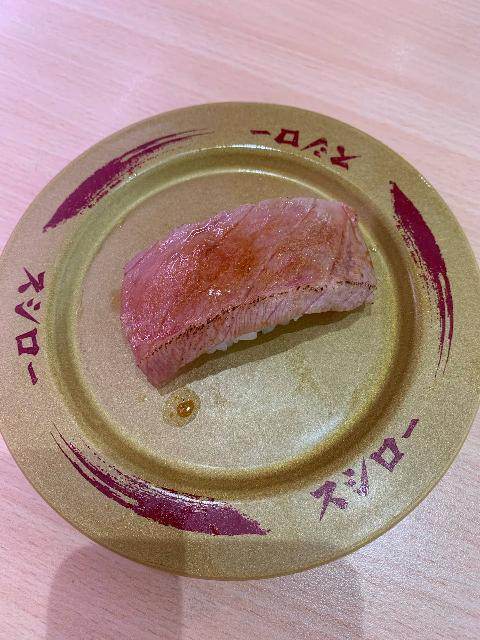jangold: (0, 72, 480, 534)
